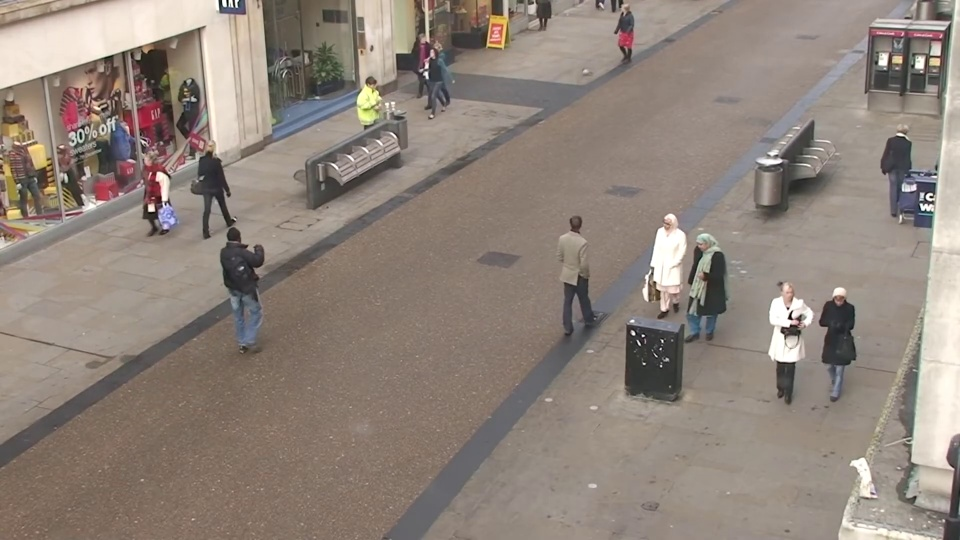pedestrian: (807, 283, 860, 424), (758, 282, 809, 422), (225, 218, 271, 339), (676, 232, 719, 359), (645, 211, 685, 333), (563, 209, 601, 330), (125, 151, 169, 253), (876, 116, 920, 215), (203, 131, 242, 229), (358, 74, 388, 157), (417, 45, 444, 121), (421, 40, 448, 114), (411, 32, 437, 104), (610, 2, 632, 67)
